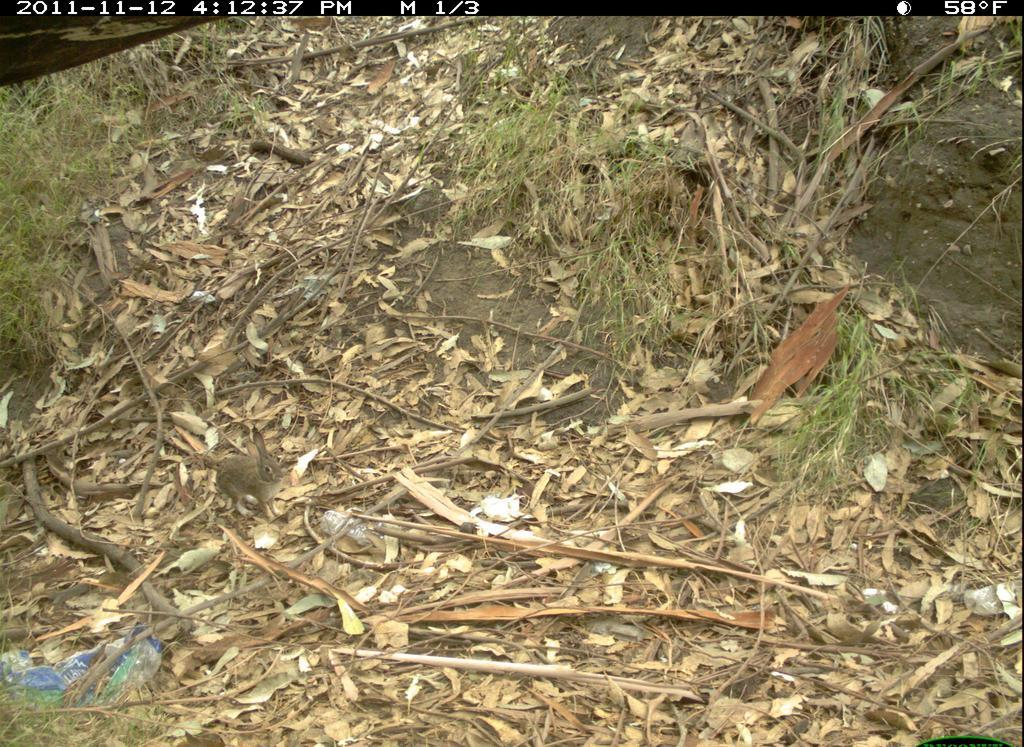rabbit: (203, 425, 299, 521)
